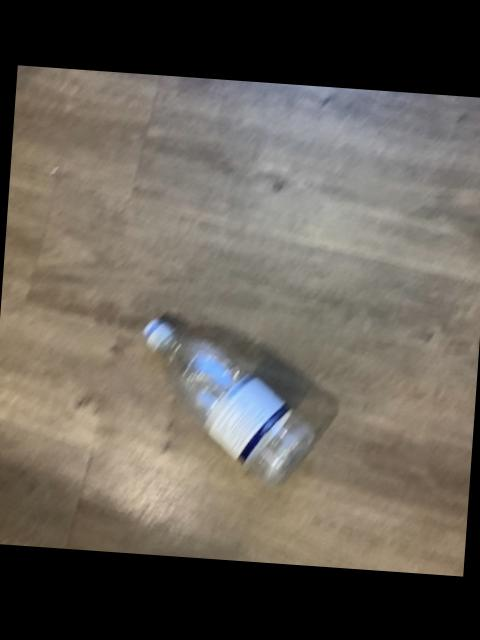plastic: (141, 320, 312, 484)
